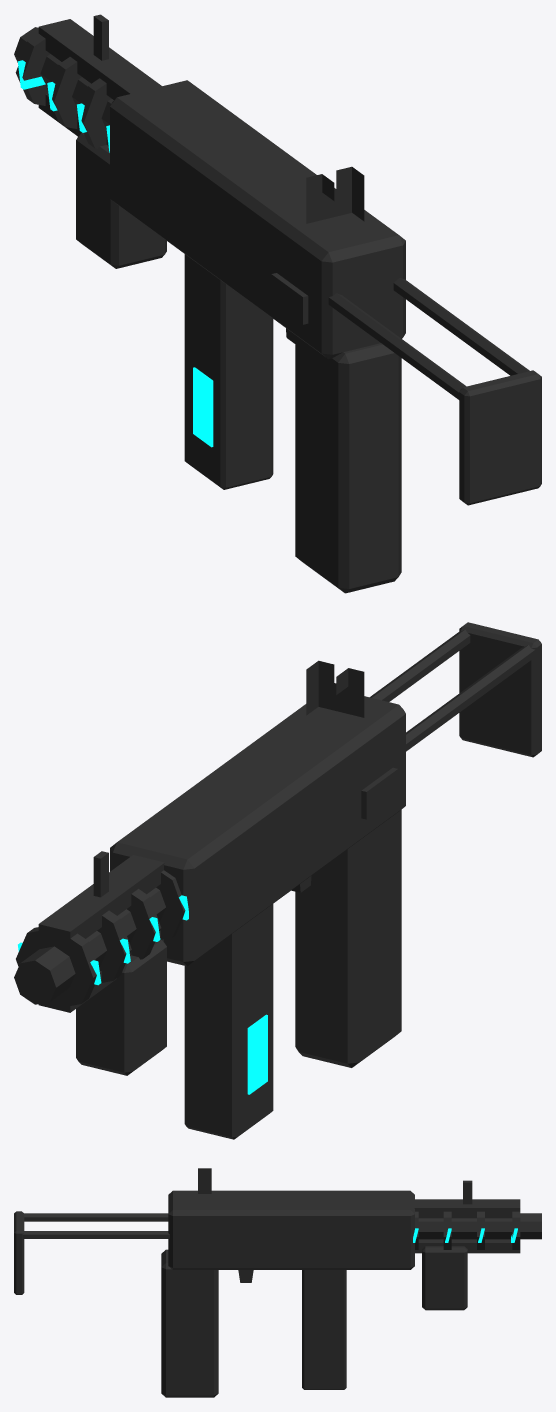
File: smg.glb
The picture shows the model from 3 angles, top to bottom: view 1: azimuth 30°, elevation 25°; view 2: azimuth 150°, elevation 25°; view 3: azimuth 270°, elevation 25°; orthographic projection. The views are drawn at different scales.
Parts seen in each view (by area): view 1: frame, trim, grip, heat_cell, heat_vents; view 2: frame, grip, trim, heat_cell, heat_vents; view 3: frame, grip, trim.
Boxes of the visible parts, bbox=[...] form: frame: bbox=[14, 14, 405, 359]; trim: bbox=[184, 254, 541, 505]; grip: bbox=[76, 133, 401, 593]; heat_cell: bbox=[193, 367, 213, 447]; heat_vents: bbox=[17, 60, 109, 152]; frame: bbox=[14, 660, 405, 1012]; grip: bbox=[76, 810, 401, 1075]; trim: bbox=[184, 622, 541, 1139]; heat_cell: bbox=[247, 1014, 267, 1094]; heat_vents: bbox=[18, 895, 188, 985]; frame: bbox=[168, 1168, 541, 1269]; grip: bbox=[161, 1246, 467, 1397]; trim: bbox=[14, 1211, 346, 1389].
Size of the model in its own units: 0.051 by 0.209 by 0.462.
